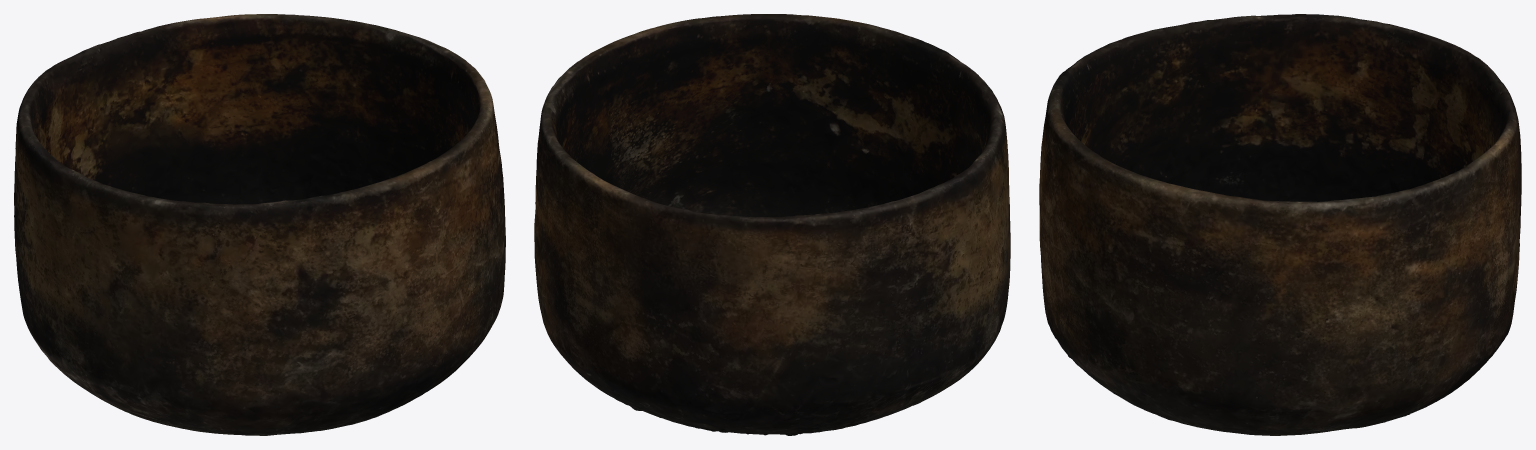
The picture shows the model from 3 angles, left to right: view 1: azimuth 30°, elevation 25°; view 2: azimuth 150°, elevation 25°; view 3: azimuth 270°, elevation 25°; orthographic projection. The views are drawn at different scales.
Parts seen in each view (by area): view 1: Mesh_0.026; view 2: Mesh_0.026; view 3: Mesh_0.026.
Boxes of the visible parts, x1=… form: Mesh_0.026: x1=14, y1=14, x2=505, y2=435; Mesh_0.026: x1=534, y1=14, x2=1010, y2=435; Mesh_0.026: x1=1039, y1=14, x2=1521, y2=435.
Bounding box in the file's own units: 0.1948 × 0.1227 × 0.1905.
Materials: 1 (1 with a texture image).
